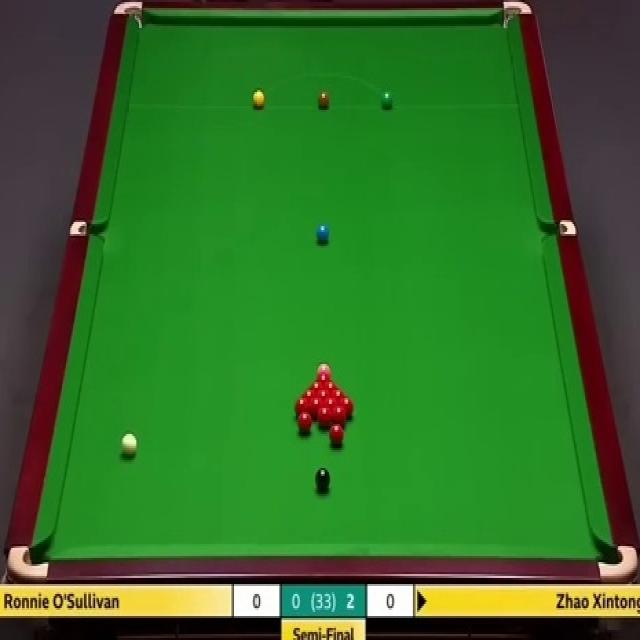pocket: (595, 542, 640, 580), (10, 545, 48, 583), (112, 0, 143, 31), (503, 2, 532, 24), (540, 221, 577, 237), (70, 218, 105, 234)
